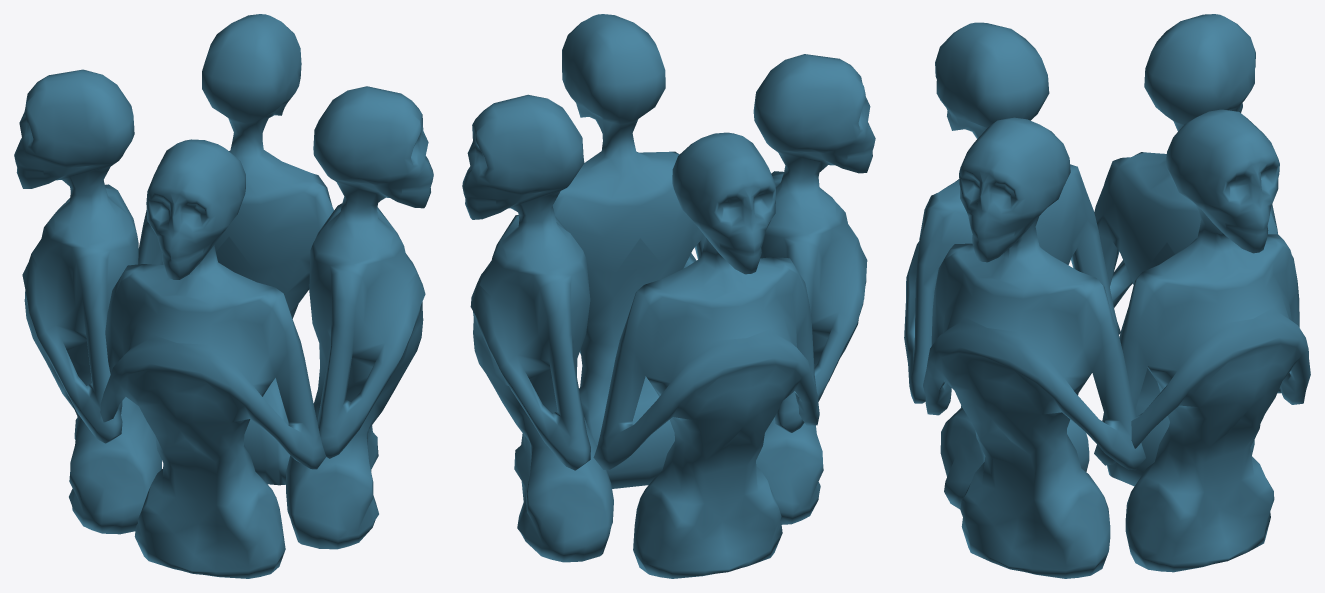
The model's file is Statues_Grp_01_Lod0.fbx.
The picture shows the model from 3 angles, left to right: view 1: azimuth 30°, elevation 25°; view 2: azimuth 150°, elevation 25°; view 3: azimuth 270°, elevation 25°; orthographic projection. The views are drawn at different scales.
Parts seen in each view (by area): view 1: Statues_Grp_01_Lod0; view 2: Statues_Grp_01_Lod0; view 3: Statues_Grp_01_Lod0.
Part boxes in pixels (x1=…): Statues_Grp_01_Lod0: x1=14, y1=14, x2=433, y2=578; Statues_Grp_01_Lod0: x1=462, y1=14, x2=875, y2=578; Statues_Grp_01_Lod0: x1=904, y1=14, x2=1310, y2=578.
Bounding box in the file's own units: 168 × 213 × 175.
